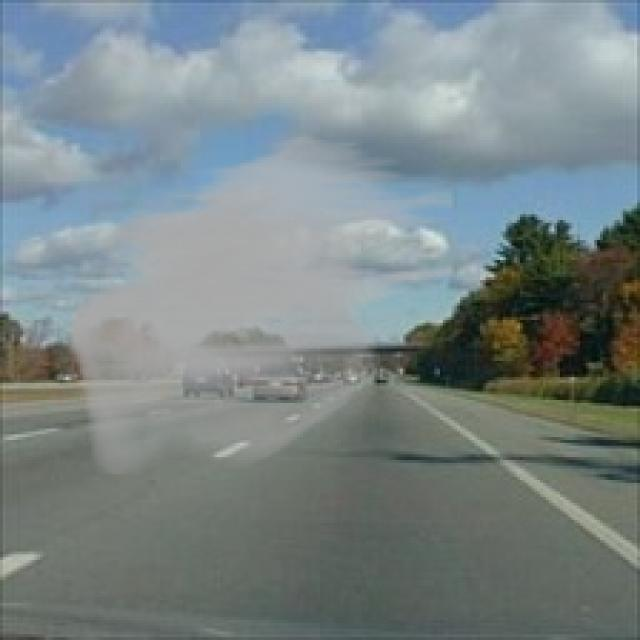Smoke: (66, 132, 457, 477)
